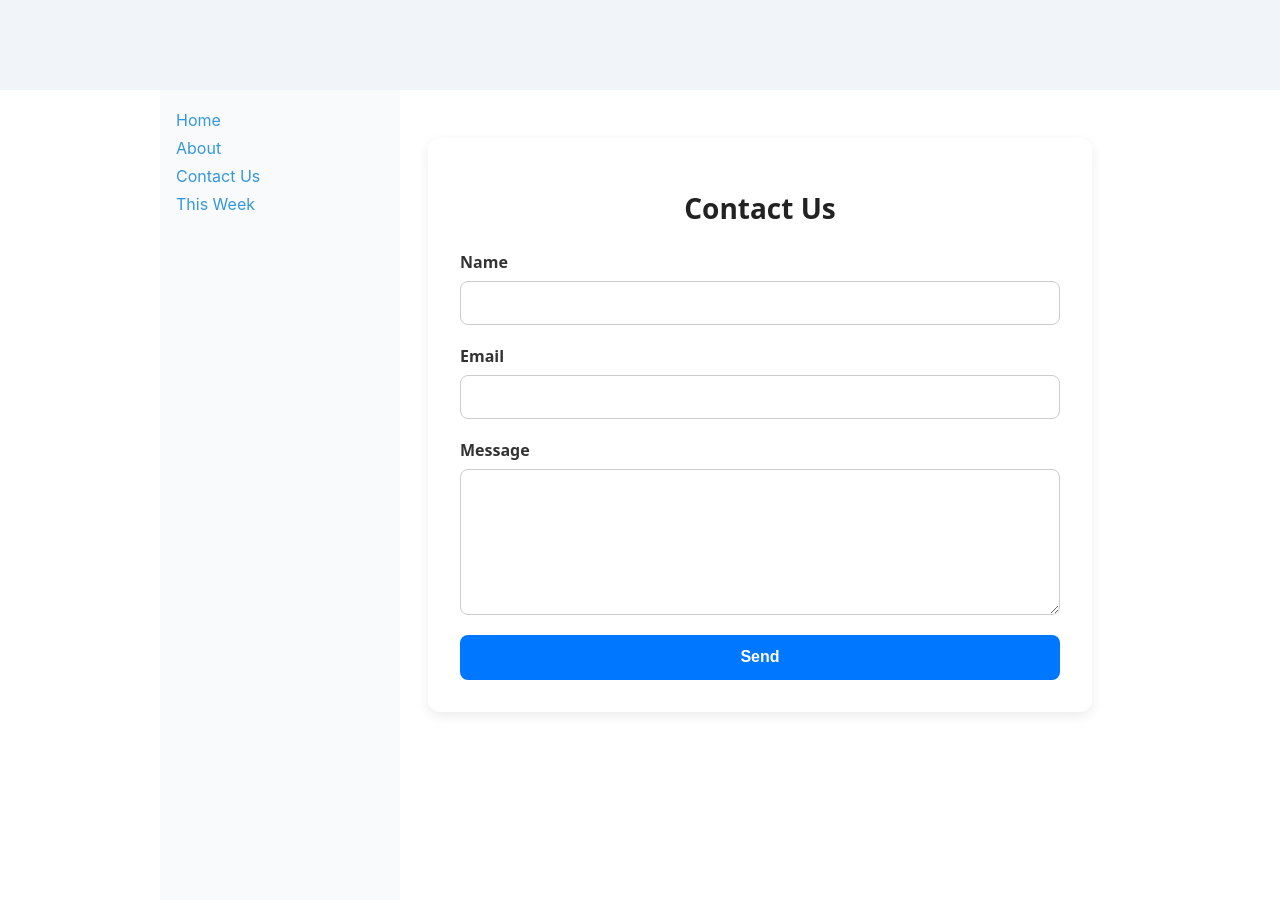
Test: ContactUs Page › submits successfully and shows thank-you message
This screenshot has width=1280, height=900.
In the field labelled "Name": [760, 303] box [460, 281, 1060, 325], type "John Doe"
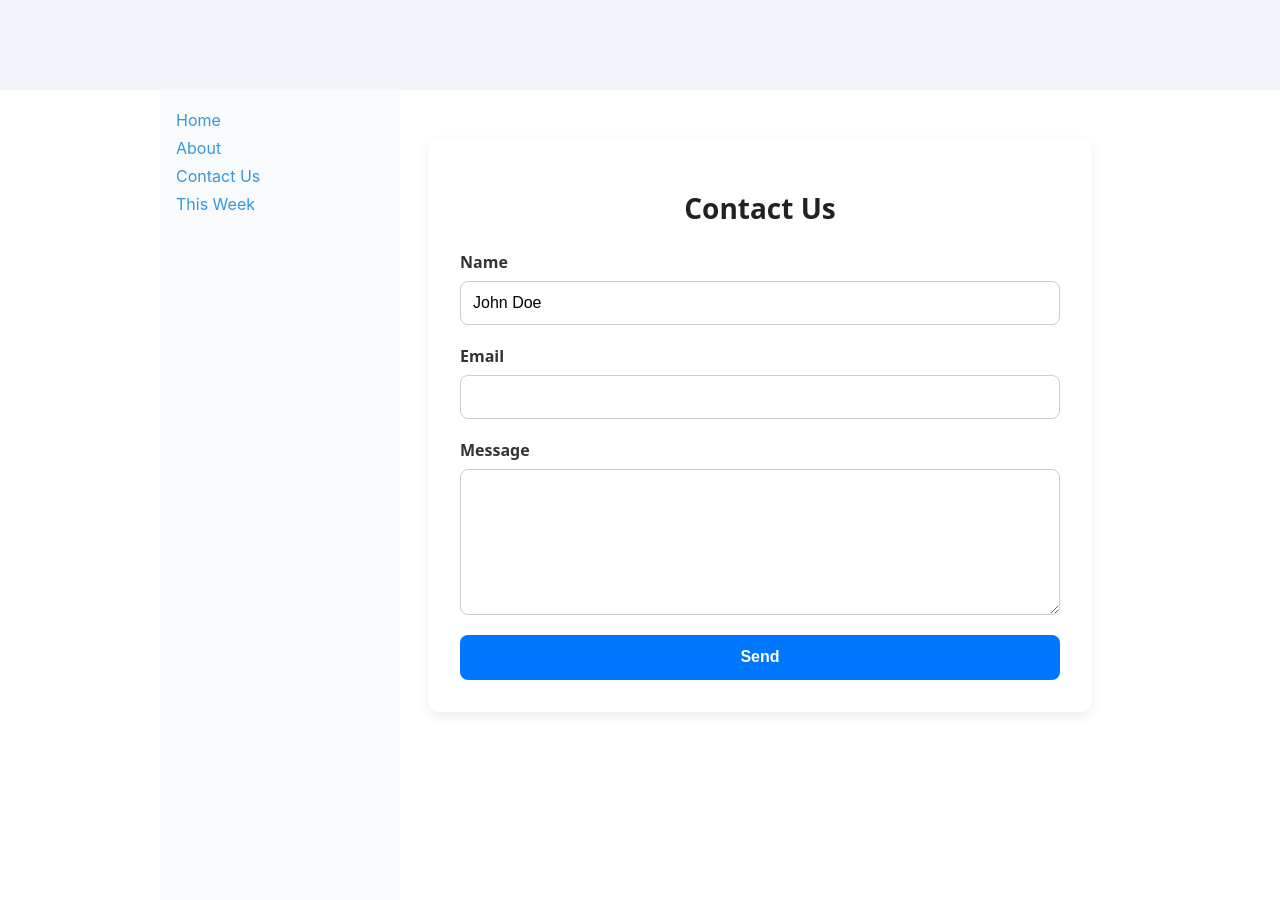
In the field labelled "Email": [760, 397] box [460, 375, 1060, 419], type "john@example.com"
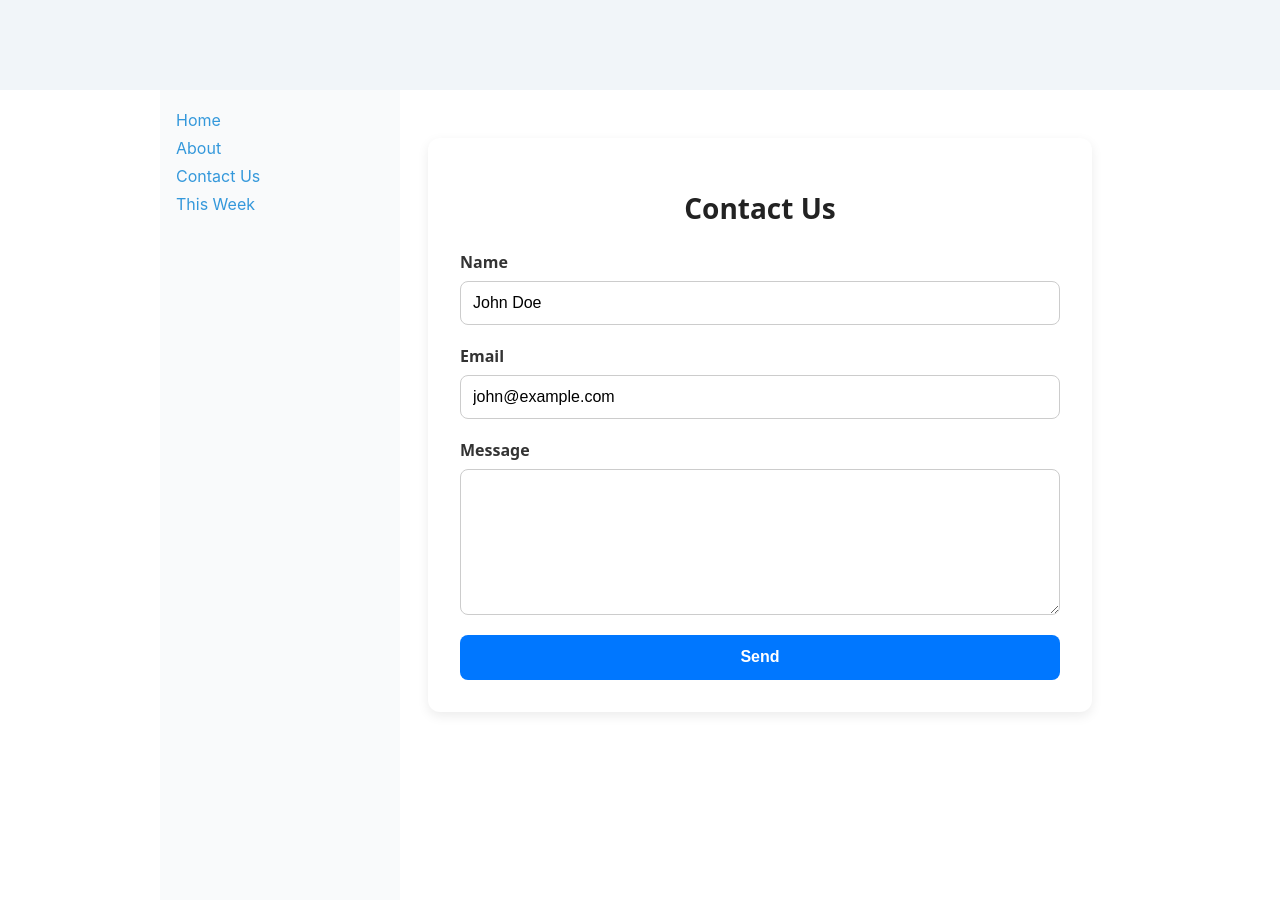
In the text box labelled "Message": [760, 542] box [460, 469, 1060, 615], type "Hello!"
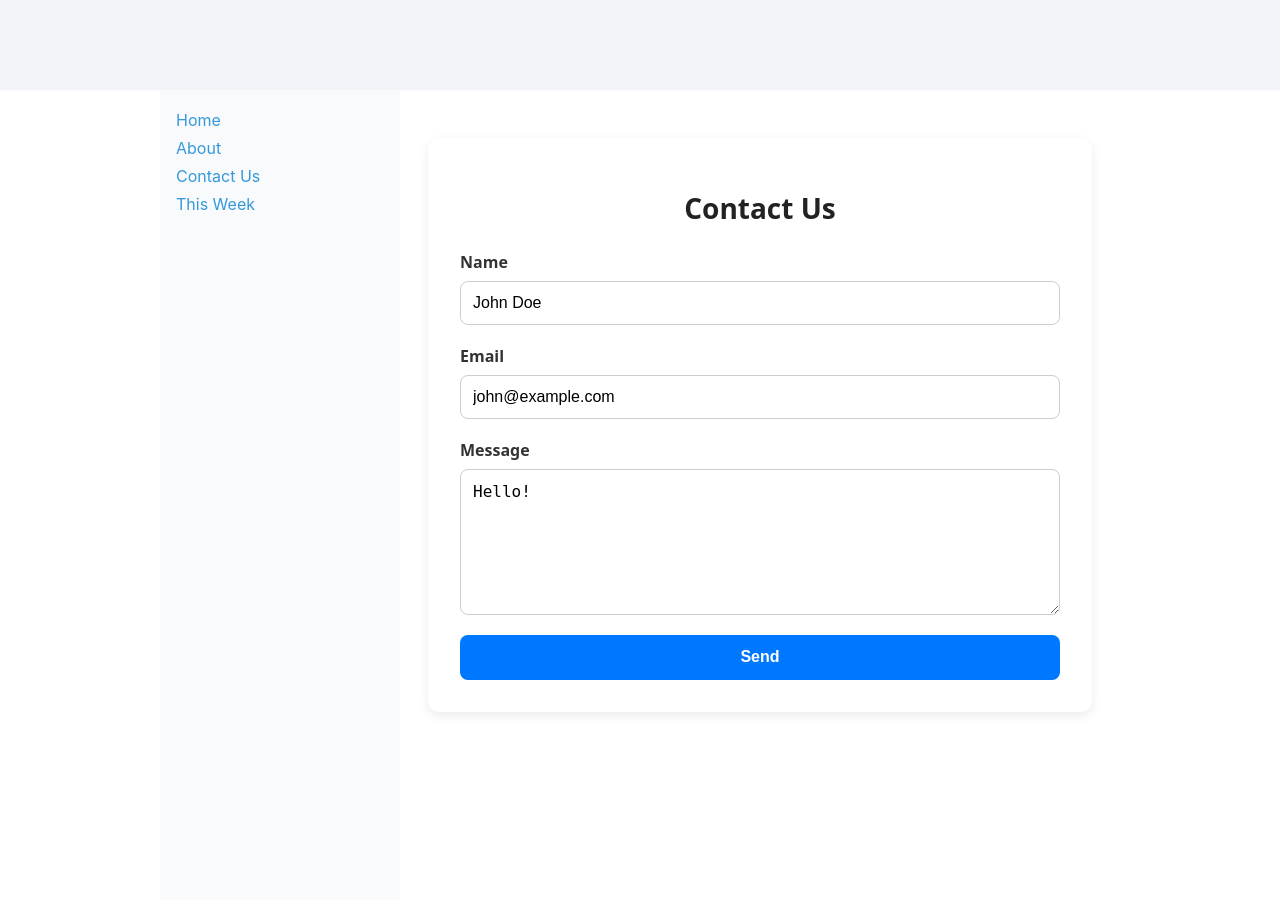
Click the button "Send": [760, 657] box [460, 635, 1060, 680]
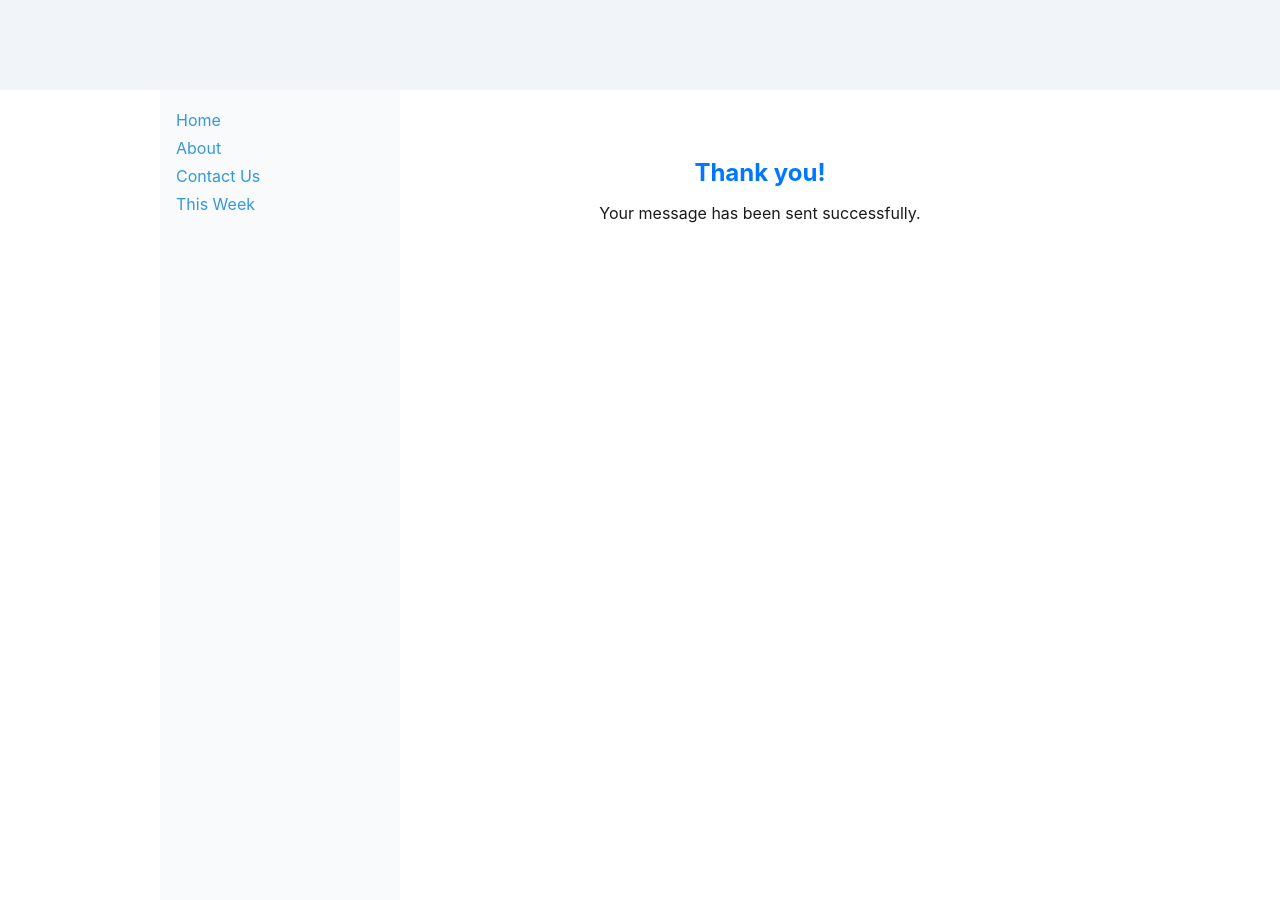
expect the text "Your message has been sent successfully." is shown: met, box [599, 203, 921, 223]
expect the form is gone: met
